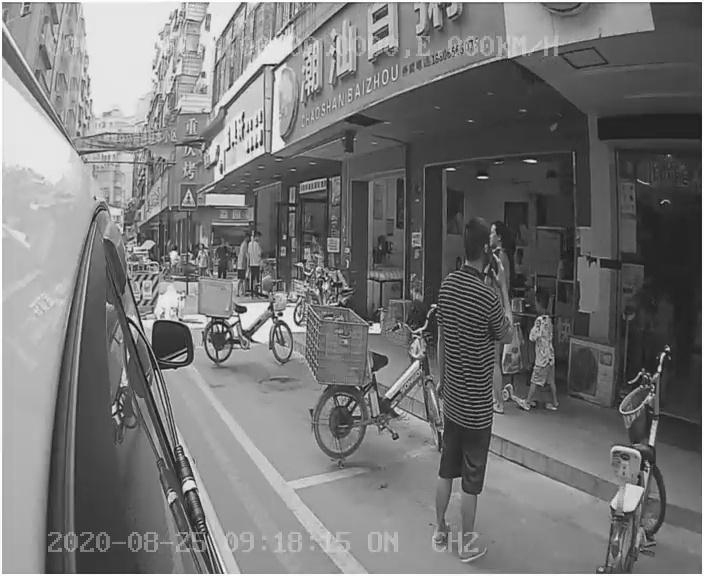person: (424, 229, 523, 565)
